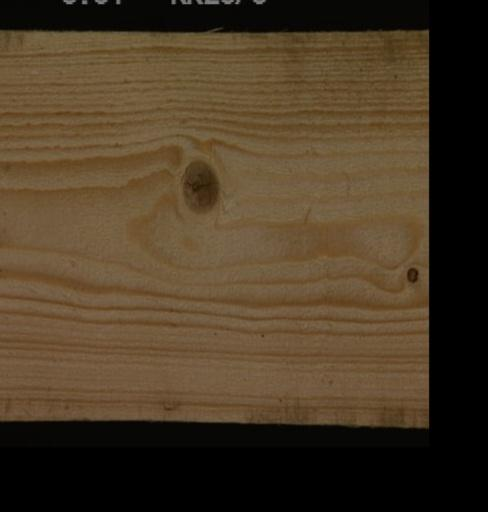dry_knot: (402, 262, 418, 284)
sound_knot: (177, 158, 221, 212)
